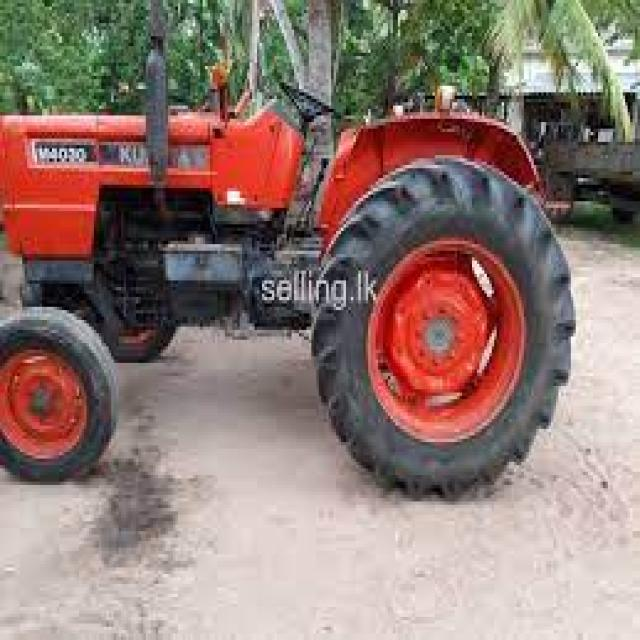tractor: (0, 36, 573, 492)
